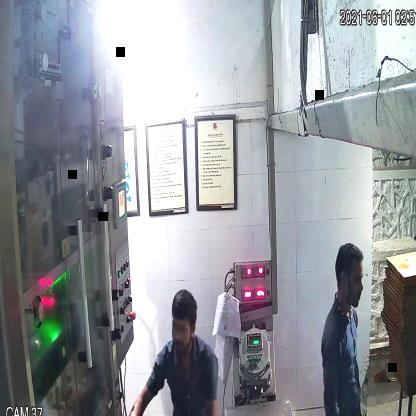no_goggles: (331, 269, 369, 294), (168, 312, 198, 340)
